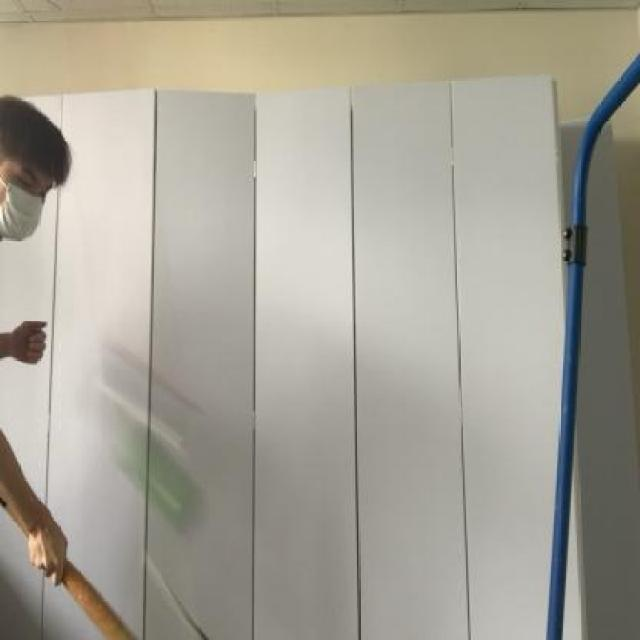baseball: (101, 402, 208, 546)
